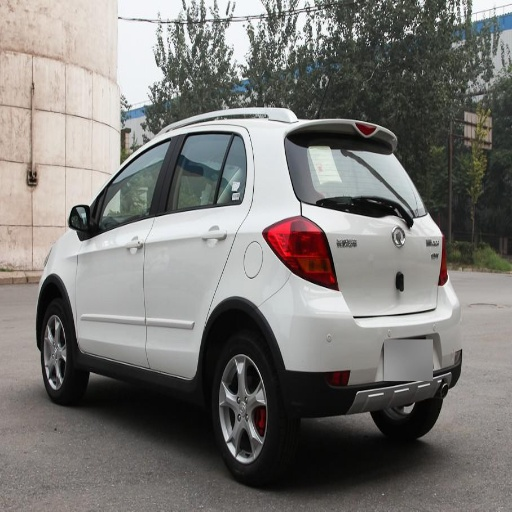back_bumper: (257, 268, 462, 415)
back_glass: (287, 129, 424, 216)
back_left_door: (145, 125, 246, 377)
tailgate: (323, 230, 416, 315)
trunk: (316, 211, 443, 316)
